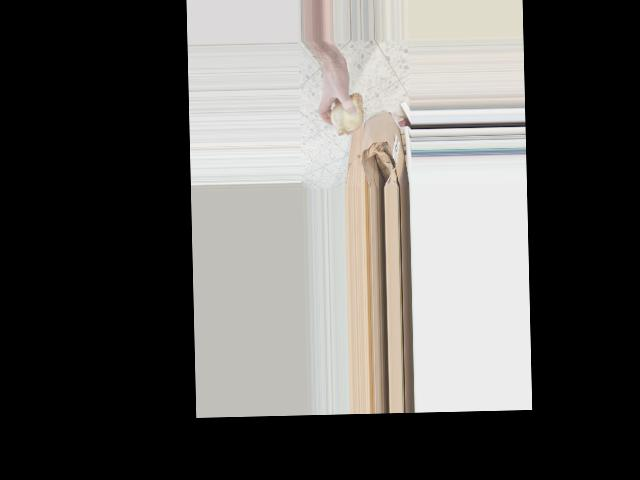onion: (326, 91, 367, 137)
